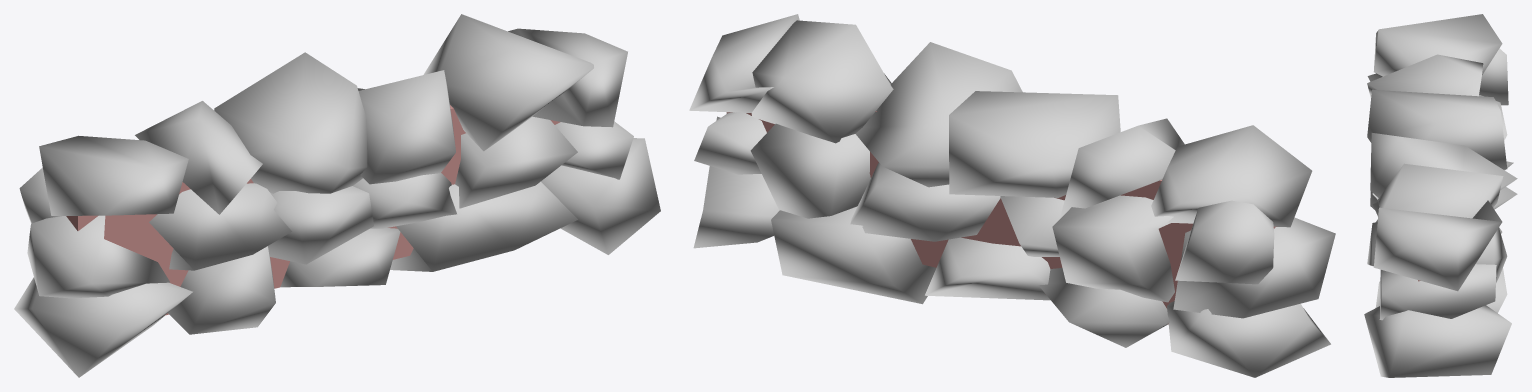
File: stoneWallSegment.glb
The picture shows the model from 3 angles, left to right: view 1: azimuth 30°, elevation 25°; view 2: azimuth 150°, elevation 25°; view 3: azimuth 270°, elevation 25°; orthographic projection. The views are drawn at different scales.
Visible parts, largest first — view 1: stoneWallSegment, stoneWallMortar; view 2: stoneWallSegment, stoneWallMortar; view 3: stoneWallSegment.
Part boxes in pixels (box(x1,y1,x2,y2)): stoneWallSegment: box(14, 14, 660, 377); stoneWallMortar: box(66, 105, 560, 315); stoneWallSegment: box(689, 14, 1335, 377); stoneWallMortar: box(726, 111, 1277, 324); stoneWallSegment: box(1364, 14, 1517, 377).
Bounding box in the file's own units: 2.3 × 0.8341 × 0.6123.
